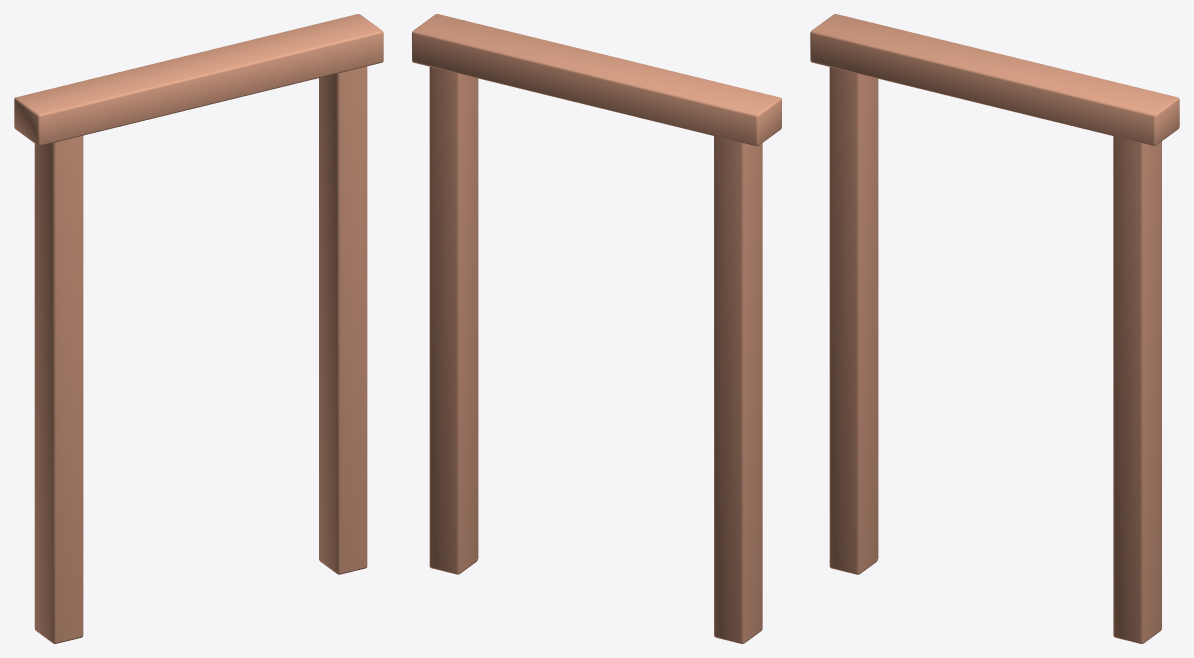
The model's file is FM_H_SH_01_Door_Frame_001.fbx.
The picture shows the model from 3 angles, left to right: view 1: azimuth 30°, elevation 25°; view 2: azimuth 150°, elevation 25°; view 3: azimuth 330°, elevation 25°; orthographic projection.
Visible parts, largest first — view 1: FM_H_SH_01_Door_Frame_001; view 2: FM_H_SH_01_Door_Frame_001; view 3: FM_H_SH_01_Door_Frame_001.
Part boxes in pixels (bbox=[...]): FM_H_SH_01_Door_Frame_001: bbox=[14, 14, 383, 643]; FM_H_SH_01_Door_Frame_001: bbox=[412, 14, 781, 643]; FM_H_SH_01_Door_Frame_001: bbox=[810, 14, 1179, 643].
Size of the model in its own units: 1.47 by 2.18 by 0.1857.
